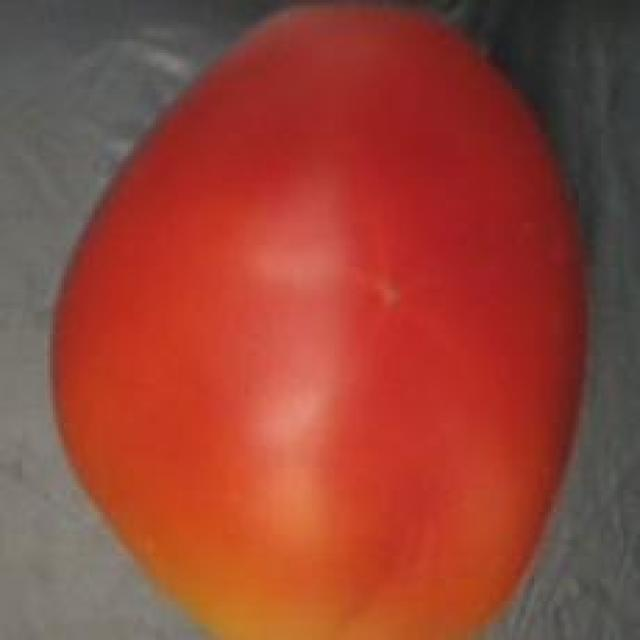ripe tomato: (39, 3, 598, 640)
